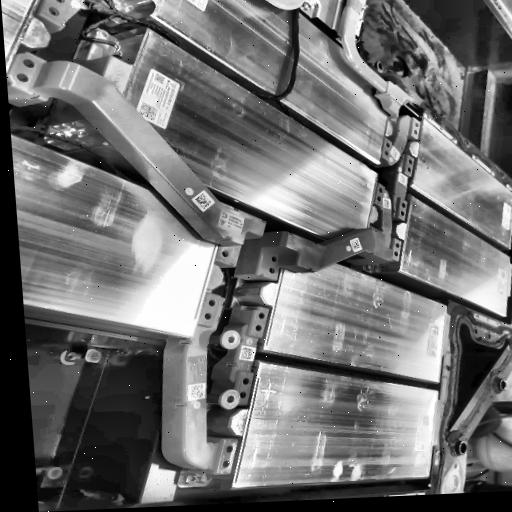battery_module: (103, 29, 377, 254), (121, 0, 396, 163), (230, 363, 438, 491), (262, 251, 449, 383), (396, 196, 512, 317), (412, 115, 512, 250)
busbar: (170, 116, 424, 483), (6, 48, 267, 266), (339, 0, 420, 124)
low_volt_cable: (9, 0, 316, 176)
